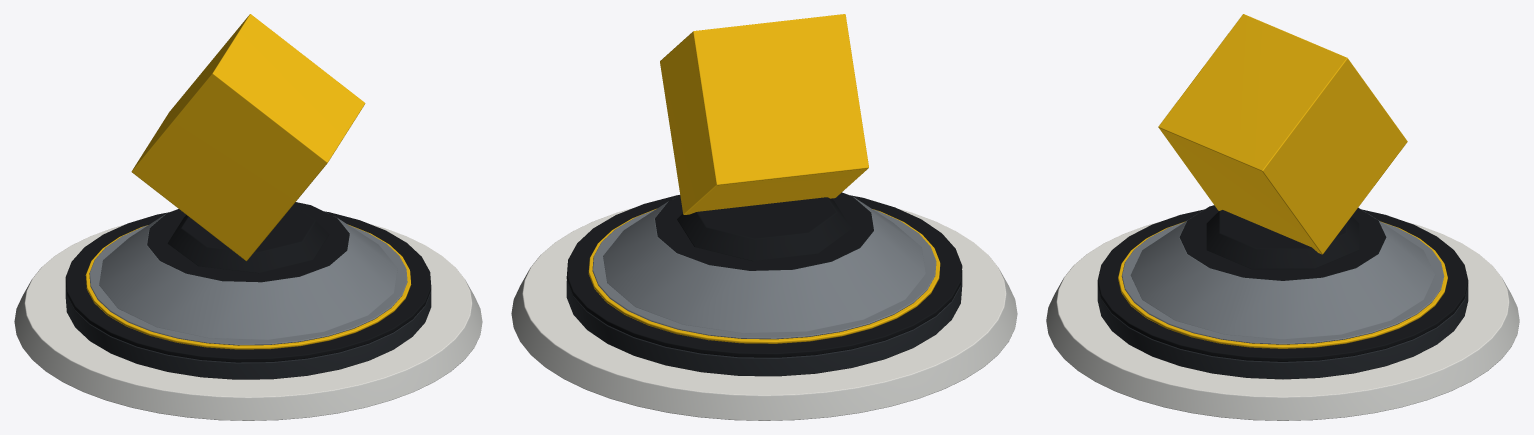
File: PROP_PLAZA_BEACON_01.glb
3 views of the same model, side by side, from view 1: azimuth 30°, elevation 25°; view 2: azimuth 150°, elevation 25°; view 3: azimuth 270°, elevation 25° (orthographic). The views are drawn at different scales.
Parts seen in each view (by area): view 1: CIVRUM_GAME_PROP_PLAZA_BEACON_01; view 2: CIVRUM_GAME_PROP_PLAZA_BEACON_01; view 3: CIVRUM_GAME_PROP_PLAZA_BEACON_01.
Part boxes in pixels (left/top/right/bottom): CIVRUM_GAME_PROP_PLAZA_BEACON_01: left=14, top=14, right=482, bottom=420; CIVRUM_GAME_PROP_PLAZA_BEACON_01: left=511, top=14, right=1017, bottom=420; CIVRUM_GAME_PROP_PLAZA_BEACON_01: left=1046, top=14, right=1519, bottom=420.
Bounding box in the file's own units: 3.93 × 2.57 × 3.93.
